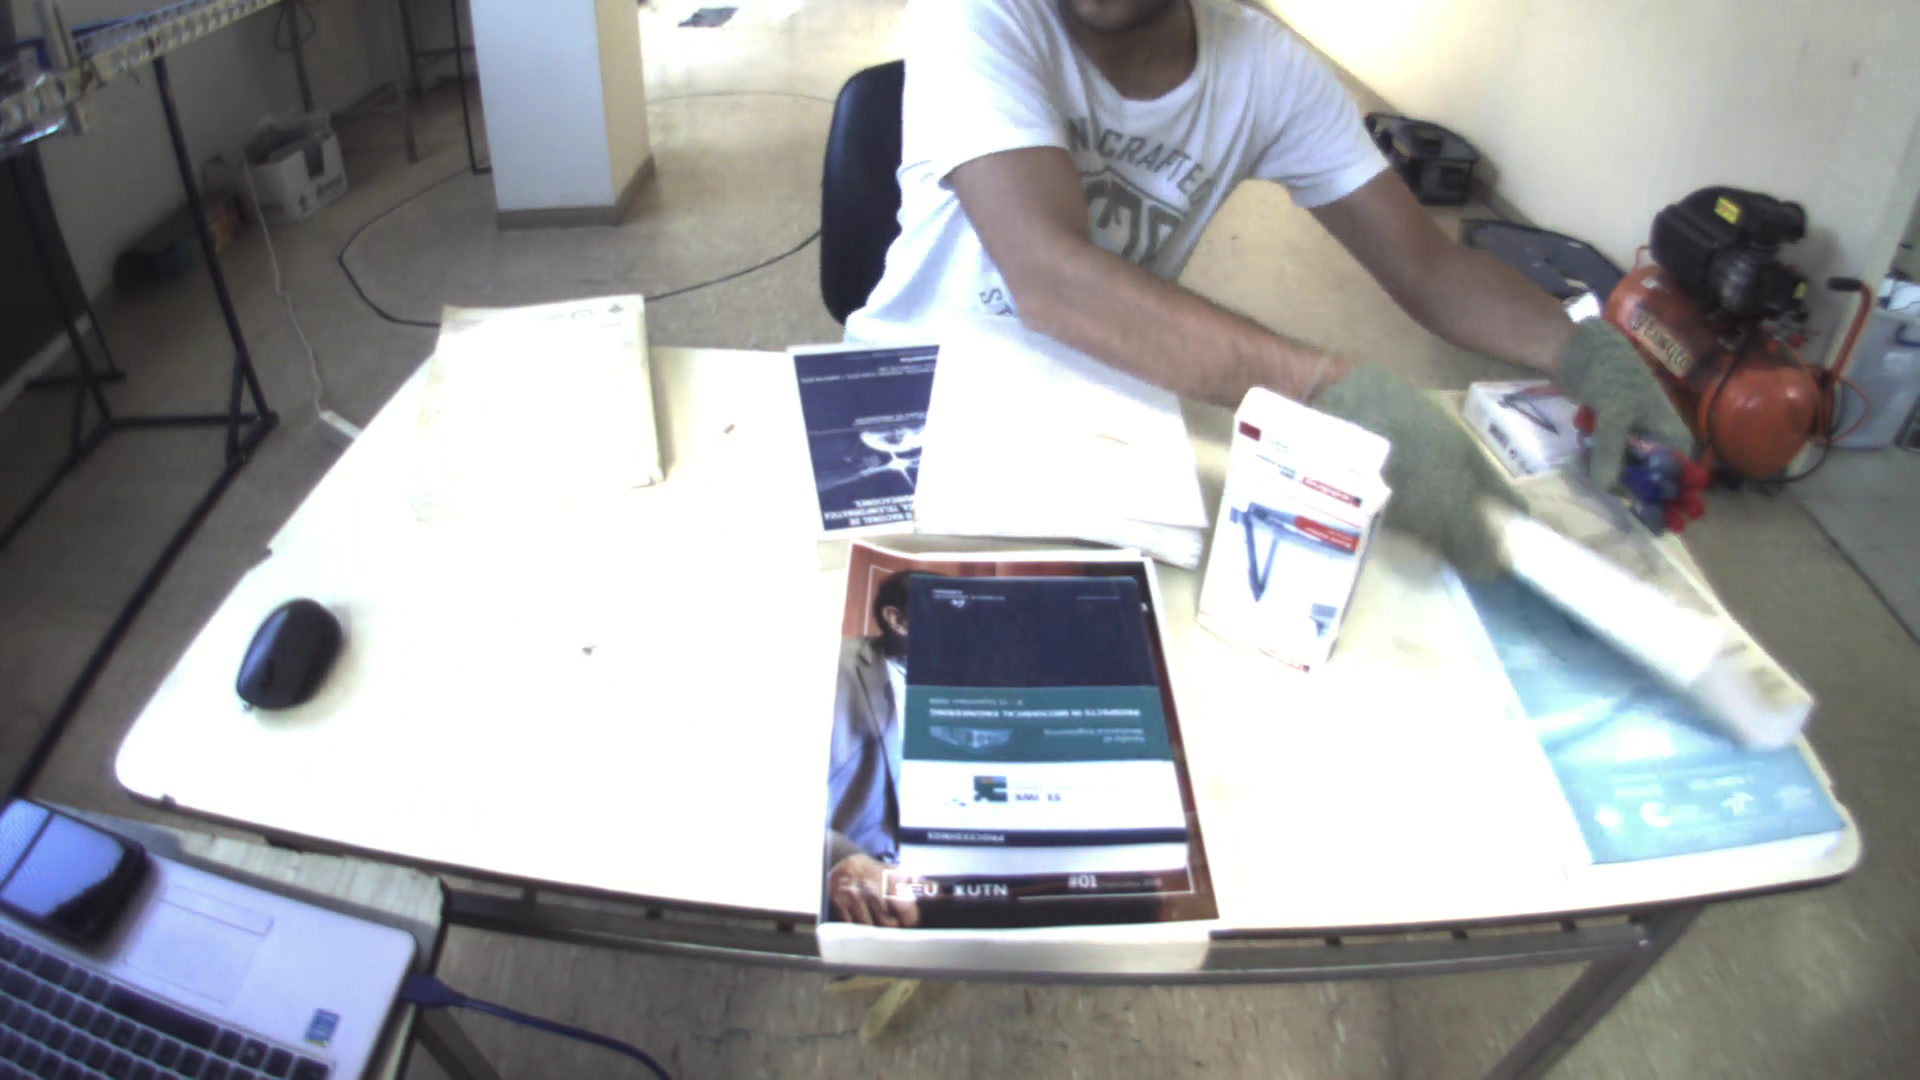hand: (1309, 363, 1522, 582), (1551, 313, 1701, 516)
